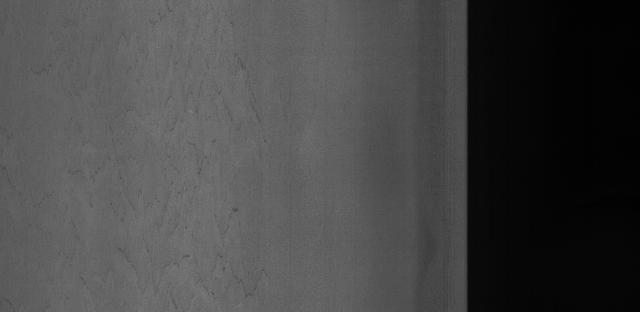silk_spot: (98, 25, 278, 282)
